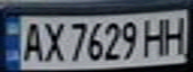2: (103, 19, 124, 62)
6: (84, 19, 106, 62)
7: (66, 19, 87, 63)
9: (118, 18, 142, 61)
A: (18, 18, 45, 63)
H: (139, 15, 172, 57), (160, 12, 190, 56)
X: (39, 18, 66, 63)
